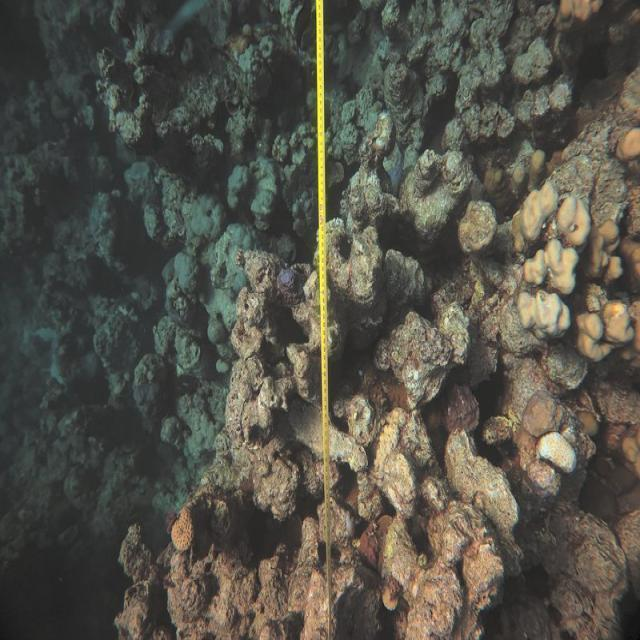Dead Coral: (0, 0, 316, 640), (326, 0, 640, 640)
